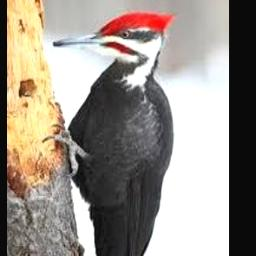Woodpecker: (43, 13, 173, 256)
